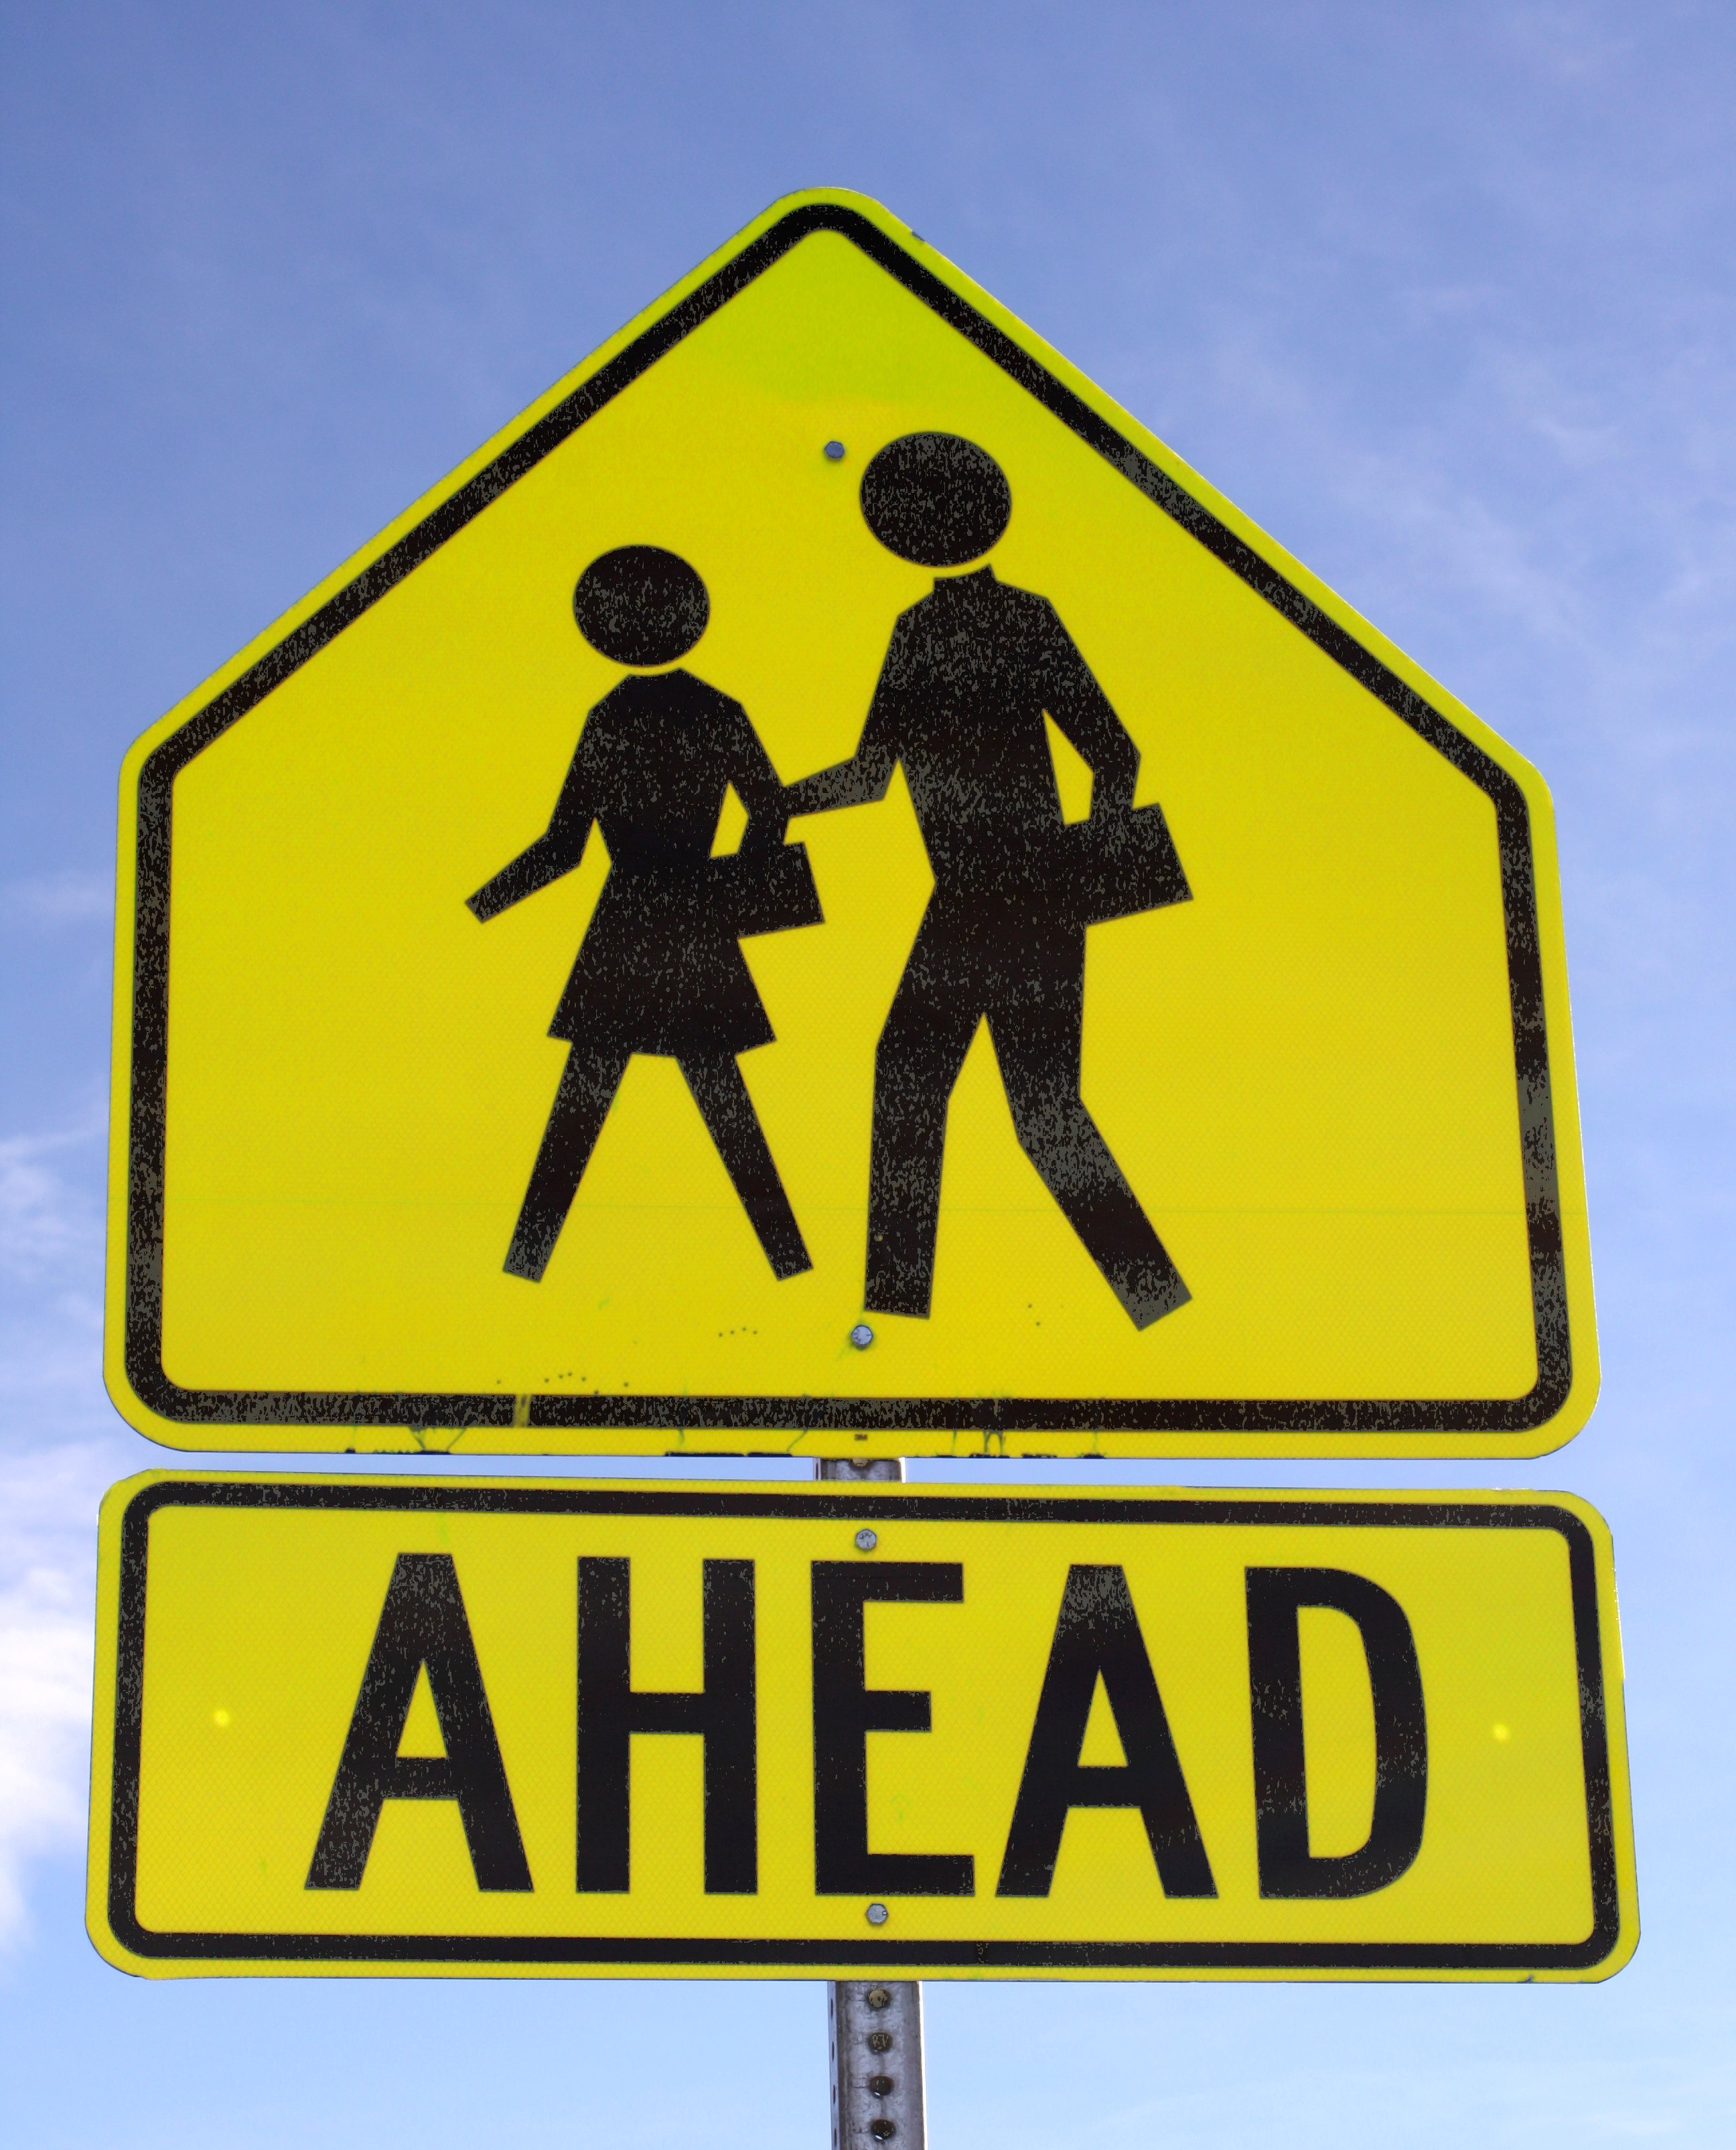slow: (110, 181, 1605, 1472)
